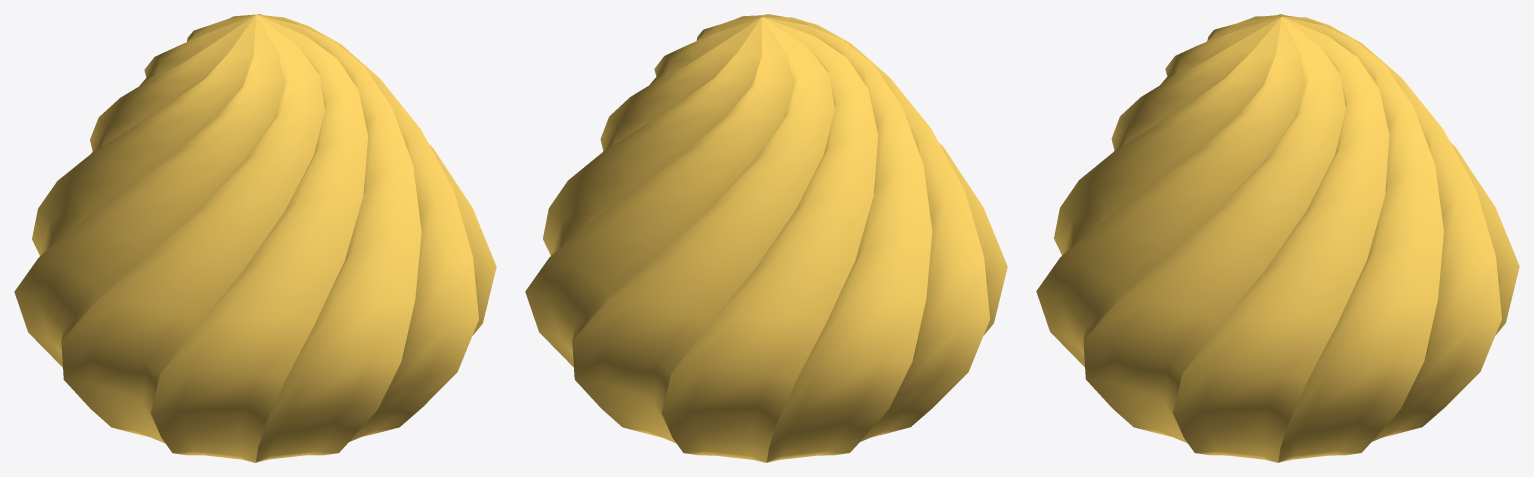
File: Ice Cream Spiral B Yellow.fbx
The picture shows the model from 3 angles, left to right: view 1: azimuth 30°, elevation 25°; view 2: azimuth 150°, elevation 25°; view 3: azimuth 270°, elevation 25°; orthographic projection.
Parts seen in each view (by area): view 1: Ice Cream Spiral B Yellow; view 2: Ice Cream Spiral B Yellow; view 3: Ice Cream Spiral B Yellow.
Part boxes in pixels (x1,y1,x2,y2): Ice Cream Spiral B Yellow: (14,14,496,462); Ice Cream Spiral B Yellow: (525,14,1007,462); Ice Cream Spiral B Yellow: (1036,14,1519,462).
Bounding box in the file's own units: 0.4173 × 0.3732 × 0.4173.
